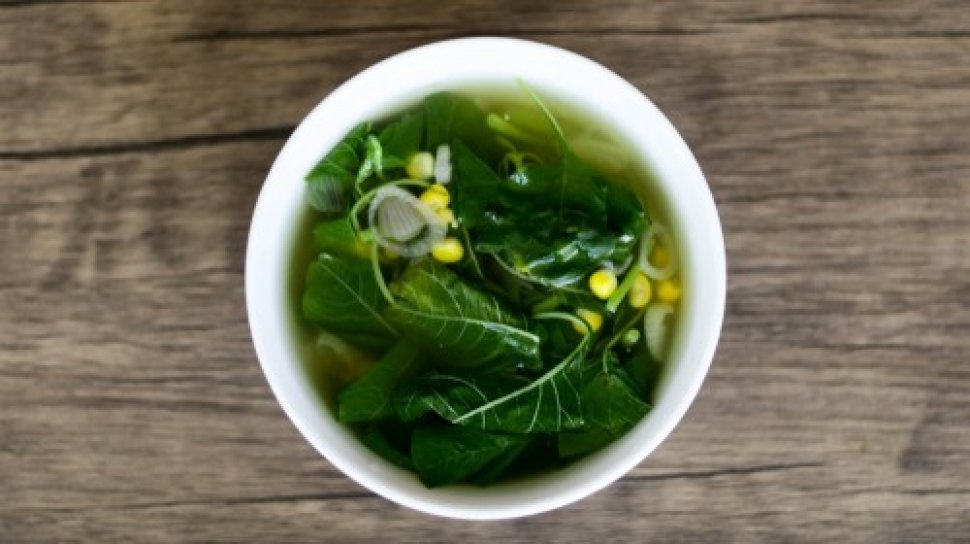Sayur Bayam: (253, 86, 719, 469)
